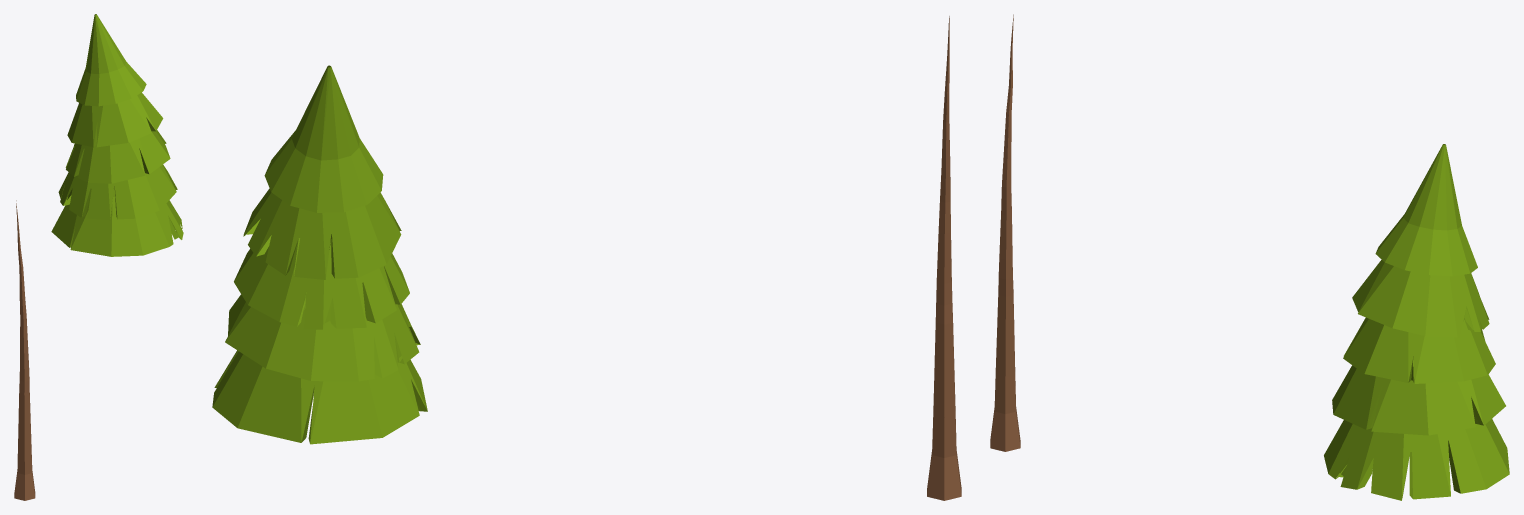
Rendered from tree-autumn-complete-15-013.glb.
3 views of the same model, side by side, from view 1: azimuth 30°, elevation 25°; view 2: azimuth 150°, elevation 25°; view 3: azimuth 270°, elevation 25° (orthographic). The views are drawn at different scales.
Parts seen in each view (by area): view 1: TREE 15.002_289, TREE 15.003_290; view 2: TREE 15.002_289, TREE 15.003_290; view 3: TREE 15.002_289, TREE 15.003_290.
Part boxes in pixels (x1,y1,x2,y2): TREE 15.002_289: (51, 14, 183, 256); TREE 15.003_290: (14, 200, 35, 500); TREE 15.002_289: (212, 65, 427, 444); TREE 15.003_290: (927, 16, 961, 500); TREE 15.002_289: (1324, 144, 1509, 500); TREE 15.003_290: (990, 14, 1020, 451).
Bounding box in the file's own units: 2.24 × 2.22 × 2.29.
